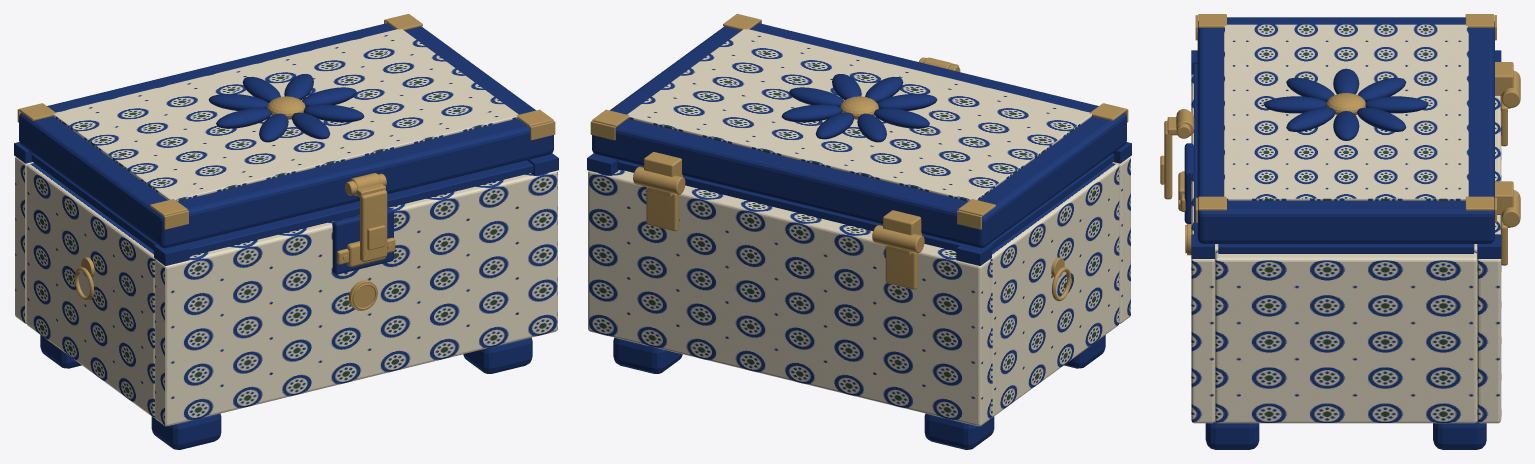
File: poland.glb
3 views of the same model, side by side, from view 1: azimuth 30°, elevation 25°; view 2: azimuth 150°, elevation 25°; view 3: azimuth 270°, elevation 25° (orthographic). The views are drawn at different scales.
Visible parts, largest first — view 1: Ceramic / front, Lid / cream inset, Lid / polished slab, Ceramic / side, Cobalt seam / long, Ceramic / rear, Ceramic foot, Ceramic foot.002, Latch / lifting hasp, Ceramic / clasp seat, Cobalt seam / side, Rosette / petal 7 (+11 smaller); view 2: Ceramic / rear, Lid / cream inset, Lid / polished slab, Ceramic / side, Cobalt seam / long.001, Ceramic / front, Ceramic foot.001, Ceramic foot.003, Cobalt seam / side, Hinge / fixed mount.001, Hinge / fixed mount, Hinge / fixed barrel.001 (+15 smaller); view 3: Ceramic / side.001, Lid / cream inset, Lid / polished slab, Ceramic / rear, Ceramic / front, Cobalt seam / side.001, Ceramic foot.002, Ceramic foot.003, Rosette / petal 2, Rosette / petal 6, Rosette / petal 7, Rosette / petal 1 (+18 smaller).
Part boxes in pixels (x1,y1,x2,y2): Ceramic / front: [155, 170, 557, 426]; Lid / cream inset: [53, 29, 518, 201]; Lid / polished slab: [19, 23, 553, 248]; Ceramic / side: [26, 163, 155, 417]; Cobalt seam / long: [184, 160, 533, 255]; Ceramic / rear: [15, 157, 33, 323]; Ceramic foot: [151, 413, 221, 449]; Ceramic foot.002: [463, 337, 532, 373]; Latch / lifting hasp: [360, 190, 387, 261]; Ceramic / clasp seat: [332, 208, 393, 274]; Cobalt seam / side: [31, 153, 157, 250]; Rosette / petal 7: [303, 104, 364, 122]; Ceramic / rear: [588, 169, 990, 426]; Lid / cream inset: [627, 29, 1092, 201]; Lid / polished slab: [592, 23, 1126, 248]; Ceramic / side: [990, 163, 1119, 417]; Cobalt seam / long.001: [617, 160, 961, 251]; Ceramic / front: [1112, 157, 1130, 323]; Ceramic foot.001: [924, 413, 994, 449]; Ceramic foot.003: [613, 337, 682, 373]; Cobalt seam / side: [988, 153, 1114, 250]; Hinge / fixed mount.001: [646, 187, 678, 231]; Hinge / fixed mount: [885, 245, 917, 289]; Hinge / fixed barrel.001: [633, 166, 685, 194]; Ceramic / side.001: [1215, 251, 1477, 423]; Lid / cream inset: [1224, 24, 1468, 200]; Lid / polished slab: [1197, 17, 1494, 243]; Ceramic / rear: [1477, 95, 1501, 423]; Ceramic / front: [1191, 74, 1214, 423]; Cobalt seam / side.001: [1218, 244, 1474, 253]; Ceramic foot.002: [1205, 421, 1259, 449]; Ceramic foot.003: [1433, 421, 1486, 449]; Rosette / petal 2: [1365, 96, 1428, 113]; Rosette / petal 6: [1264, 96, 1326, 113]; Rosette / petal 7: [1286, 107, 1335, 131]; Rosette / petal 1: [1357, 107, 1406, 131].
Size of the model in its own units: 3.79 by 2.36 by 2.88.
4 materials, 1 textured.
